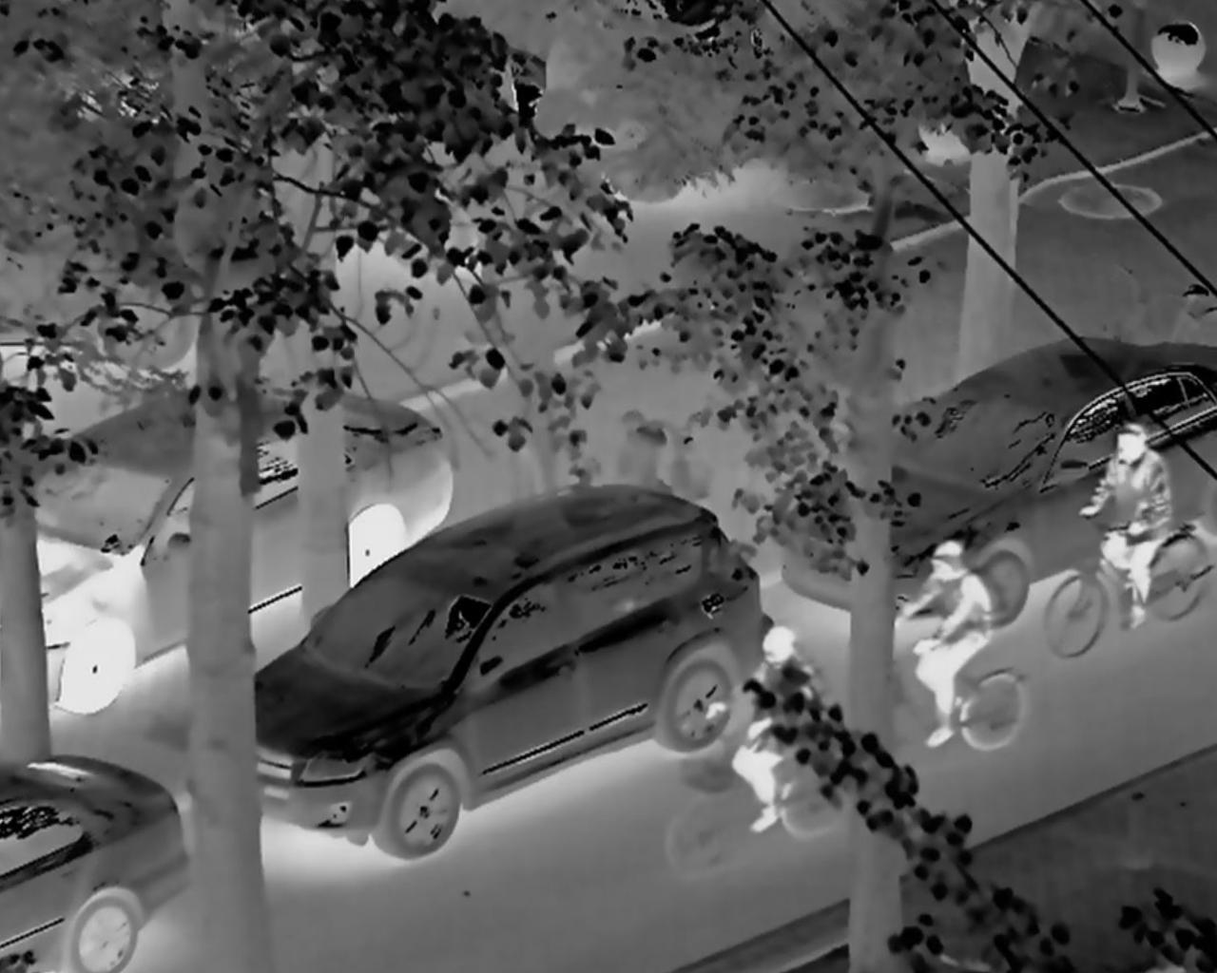person: (1069, 407, 1191, 659), (710, 619, 834, 846), (892, 538, 1005, 743)
